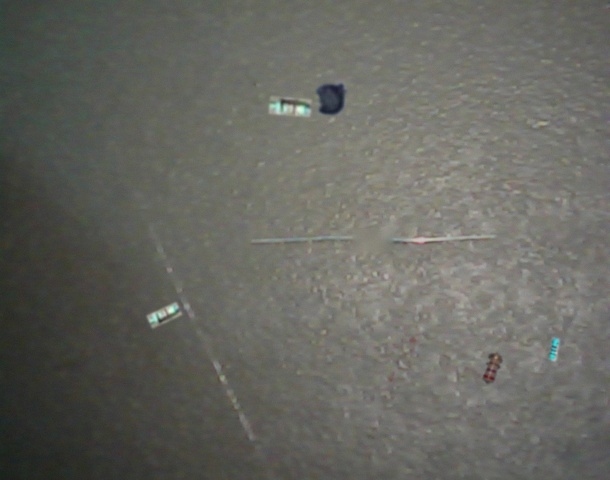capacitor: (316, 83, 347, 115)
resistor: (147, 302, 182, 328), (269, 96, 312, 117), (482, 352, 503, 384), (549, 338, 560, 361)
